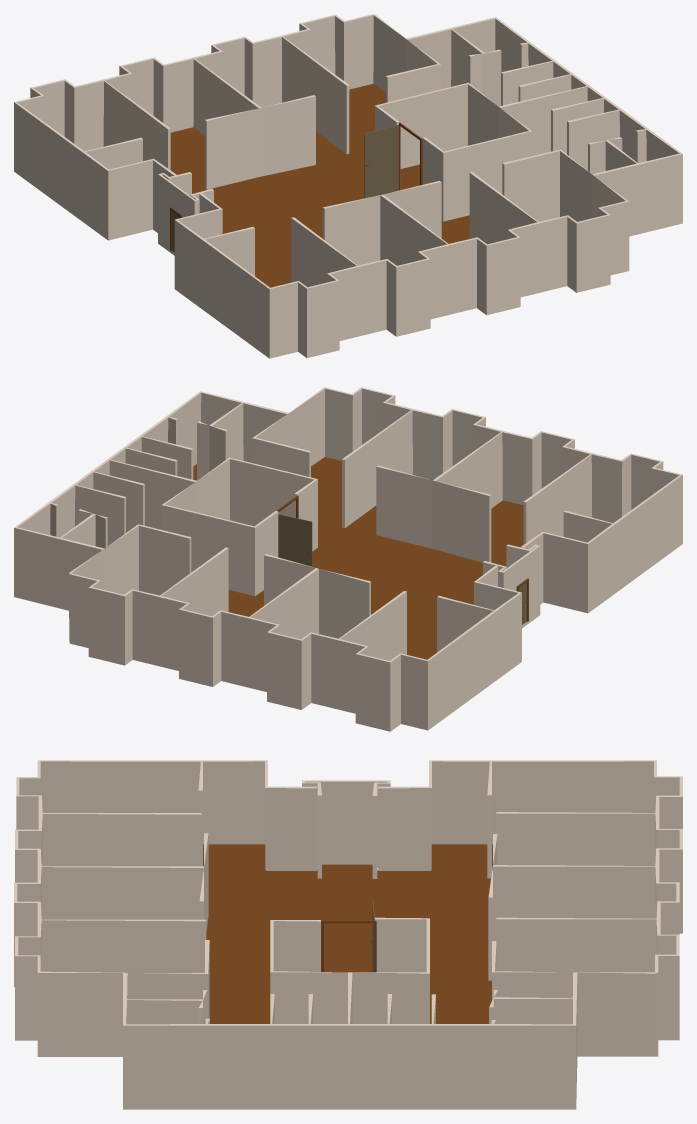
Rendered from hostelA.glb.
The picture shows the model from 3 angles, top to bottom: view 1: azimuth 30°, elevation 25°; view 2: azimuth 150°, elevation 25°; view 3: azimuth 270°, elevation 25°; orthographic projection. The views are drawn at different scales.
Visible parts, largest first — view 1: Plane, Door.001; view 2: Plane, Door.001; view 3: Plane.
Boxes of the visible parts, left/top/right/bottom form: Plane: left=14, top=14, right=682, bottom=358; Door.001: left=364, top=124, right=400, bottom=198; Plane: left=14, top=387, right=682, bottom=731; Door.001: left=278, top=514, right=312, bottom=566; Plane: left=14, top=760, right=682, bottom=1109.
Bounding box in the file's own units: 23.14 × 3.43 × 24.66.
